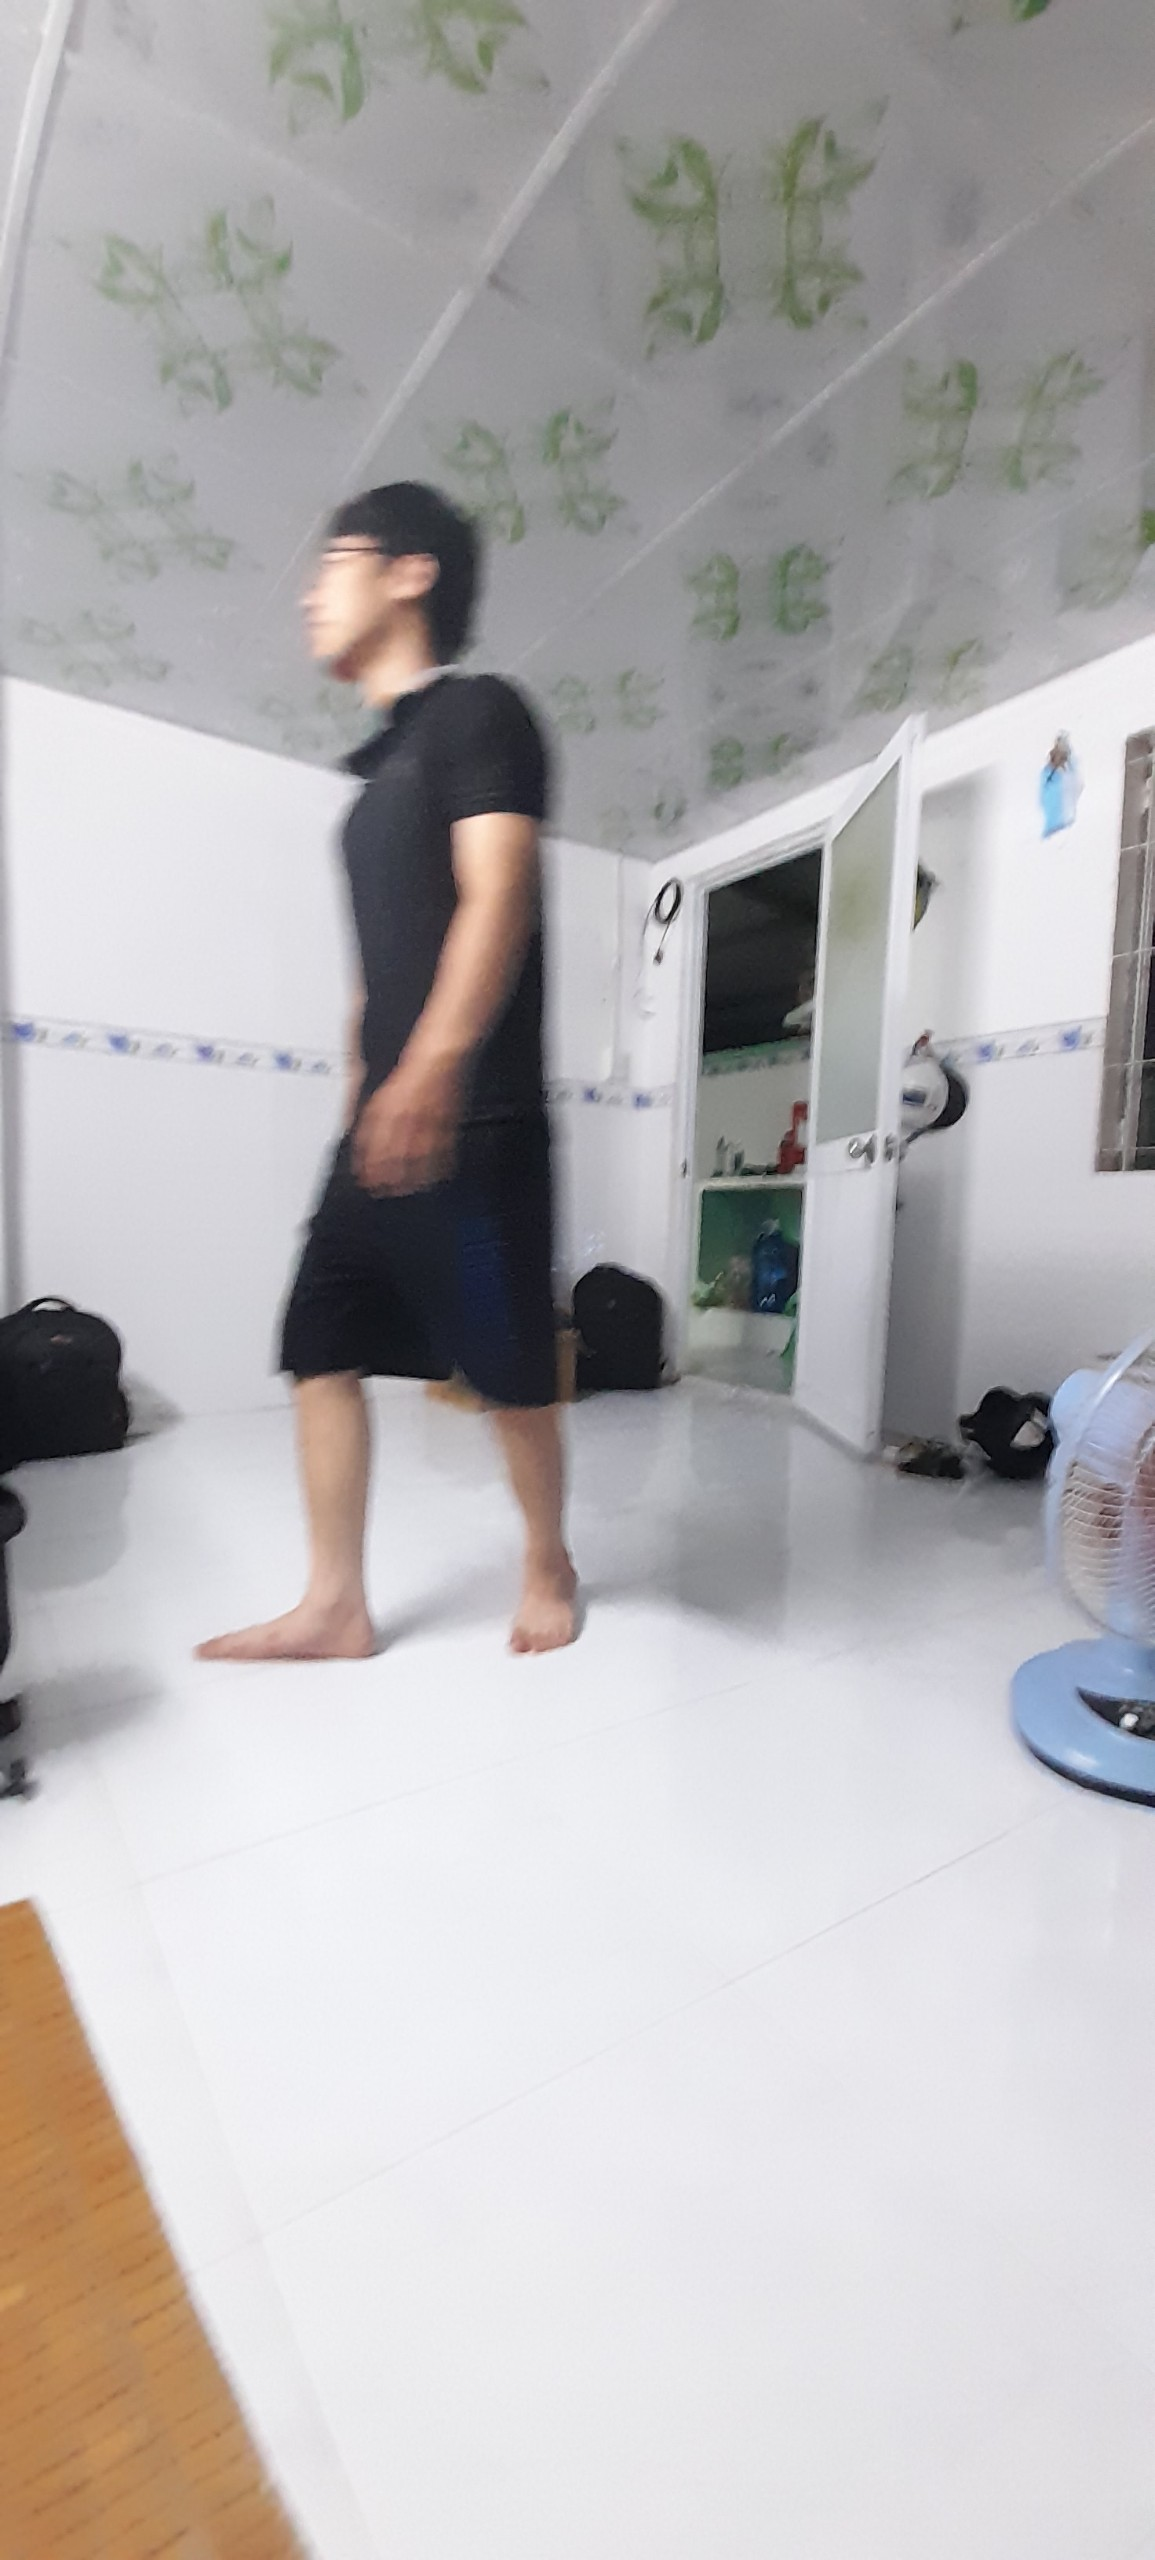person: (206, 487, 589, 1663)
